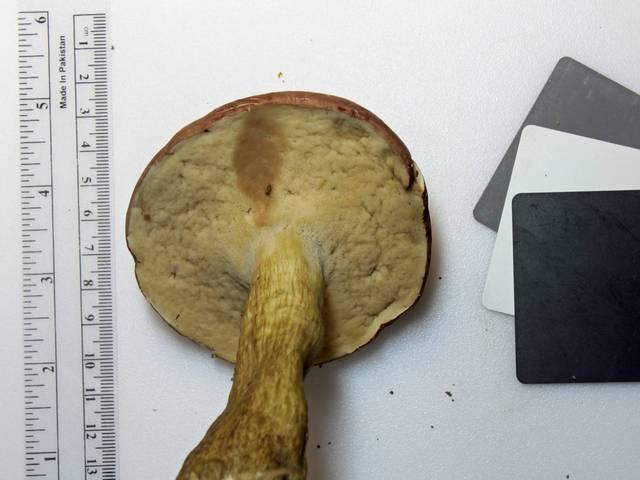poisonous_mushroom: (124, 88, 433, 478)
